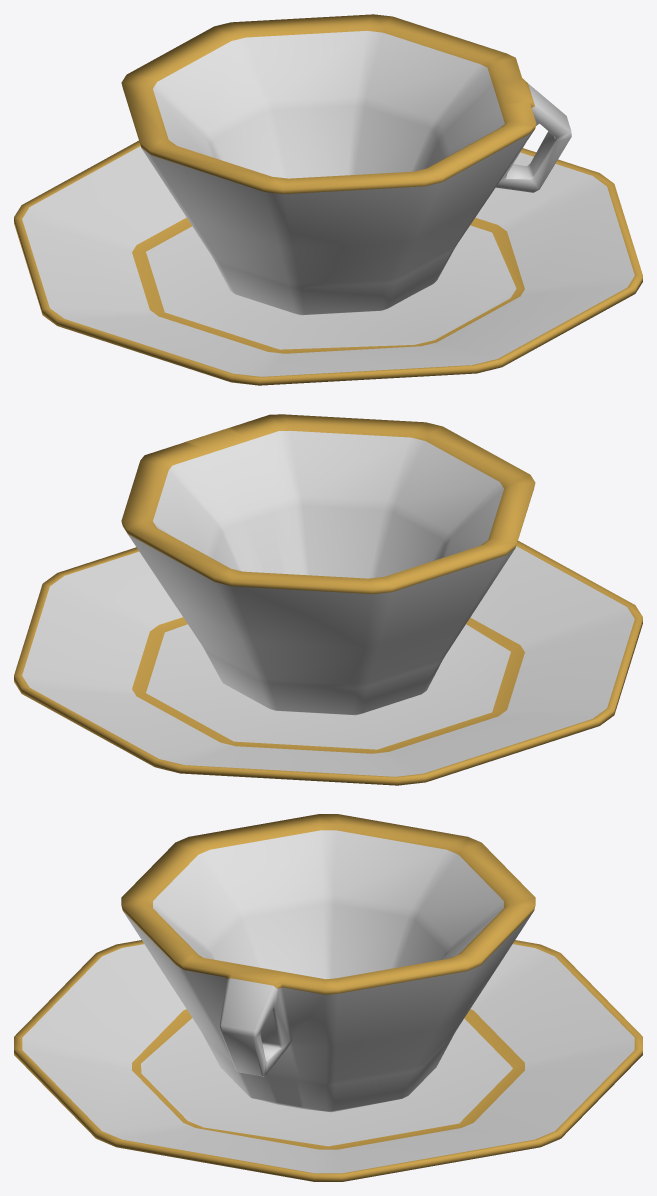
Rendered from jadalnia_filiżanka.fbx.
3 renders of one model, top to bottom at view 1: azimuth 30°, elevation 25°; view 2: azimuth 150°, elevation 25°; view 3: azimuth 270°, elevation 25°, orthographic. The views are drawn at different scales.
Parts seen in each view (by area): view 1: Circle; view 2: Circle; view 3: Circle.
Boxes of the visible parts, left/top/right/bottom form: Circle: left=14, top=14, right=642, bottom=385; Circle: left=14, top=414, right=642, bottom=785; Circle: left=14, top=814, right=642, bottom=1181.
Bounding box in the file's own units: 23.55 × 8.14 × 23.55.
